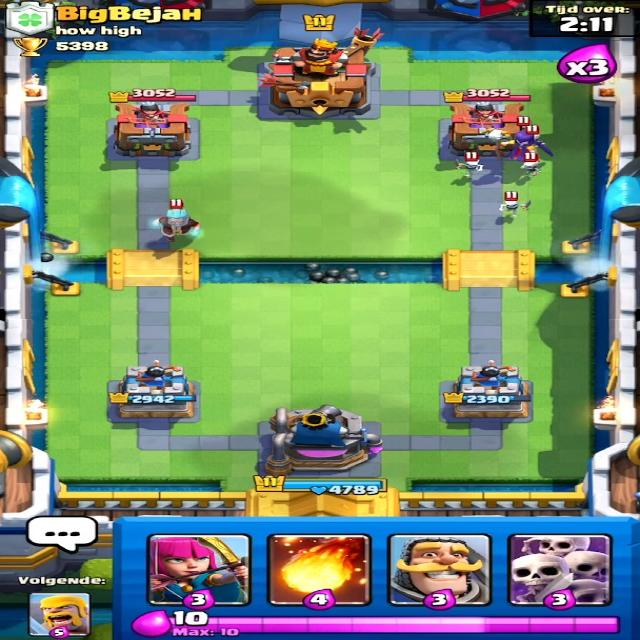Enemy_Ice_Wizard_Troop: (150, 205, 203, 249)
Enemy_Skeleton_Troop: (499, 198, 533, 217), (453, 159, 485, 177), (519, 160, 543, 176)
Enemy_Witch_Troop: (506, 129, 544, 164)
Fireball_Card: (270, 533, 370, 606)
